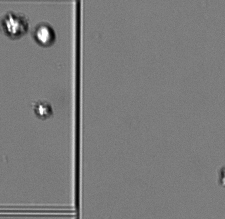Living Cell: (2, 11, 29, 39), (32, 21, 56, 48), (33, 101, 55, 120)
